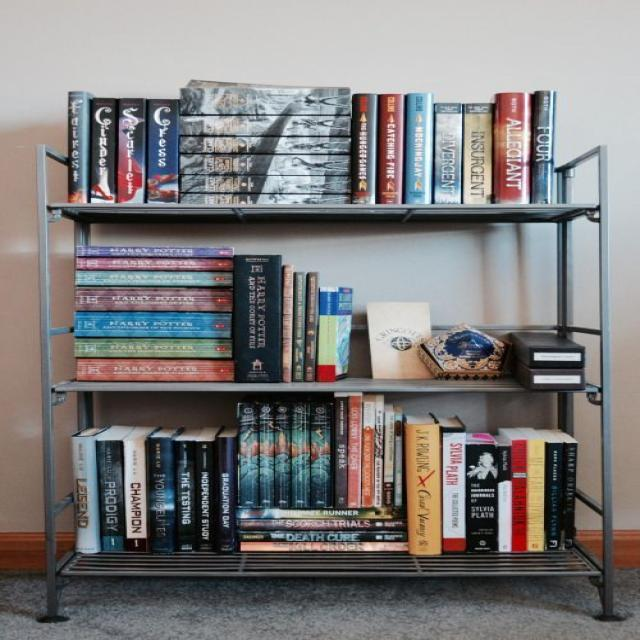book: (235, 255, 282, 382), (404, 424, 441, 554), (182, 88, 352, 115), (74, 312, 232, 338), (75, 286, 232, 312), (497, 93, 530, 204), (76, 359, 235, 381), (179, 116, 351, 136), (180, 155, 350, 175), (467, 444, 498, 552), (148, 99, 178, 203), (96, 440, 124, 551), (74, 338, 232, 357), (73, 436, 98, 553), (442, 427, 465, 553), (182, 176, 351, 193), (464, 103, 492, 204), (149, 437, 173, 553), (180, 137, 351, 153), (406, 94, 430, 204), (119, 99, 144, 203), (216, 437, 238, 553), (92, 98, 116, 203), (436, 104, 461, 204), (124, 440, 146, 552), (353, 94, 375, 203), (174, 441, 195, 553), (380, 94, 401, 202), (69, 91, 89, 203), (75, 271, 233, 285), (238, 402, 259, 507), (533, 90, 552, 204), (196, 441, 215, 552), (312, 403, 332, 506), (76, 258, 233, 271), (527, 439, 545, 551), (76, 246, 233, 258), (236, 508, 405, 519), (292, 403, 310, 506), (546, 442, 563, 550), (318, 287, 337, 382), (511, 440, 527, 552), (180, 194, 353, 204), (240, 532, 408, 542), (239, 520, 406, 530), (563, 443, 578, 549), (348, 395, 362, 507), (360, 402, 375, 506), (276, 403, 291, 506), (241, 542, 408, 551), (260, 403, 274, 506), (305, 272, 318, 381), (294, 272, 306, 382), (336, 397, 348, 507), (499, 446, 511, 551), (283, 265, 293, 382), (383, 411, 395, 505), (374, 409, 384, 506), (396, 411, 402, 505)
